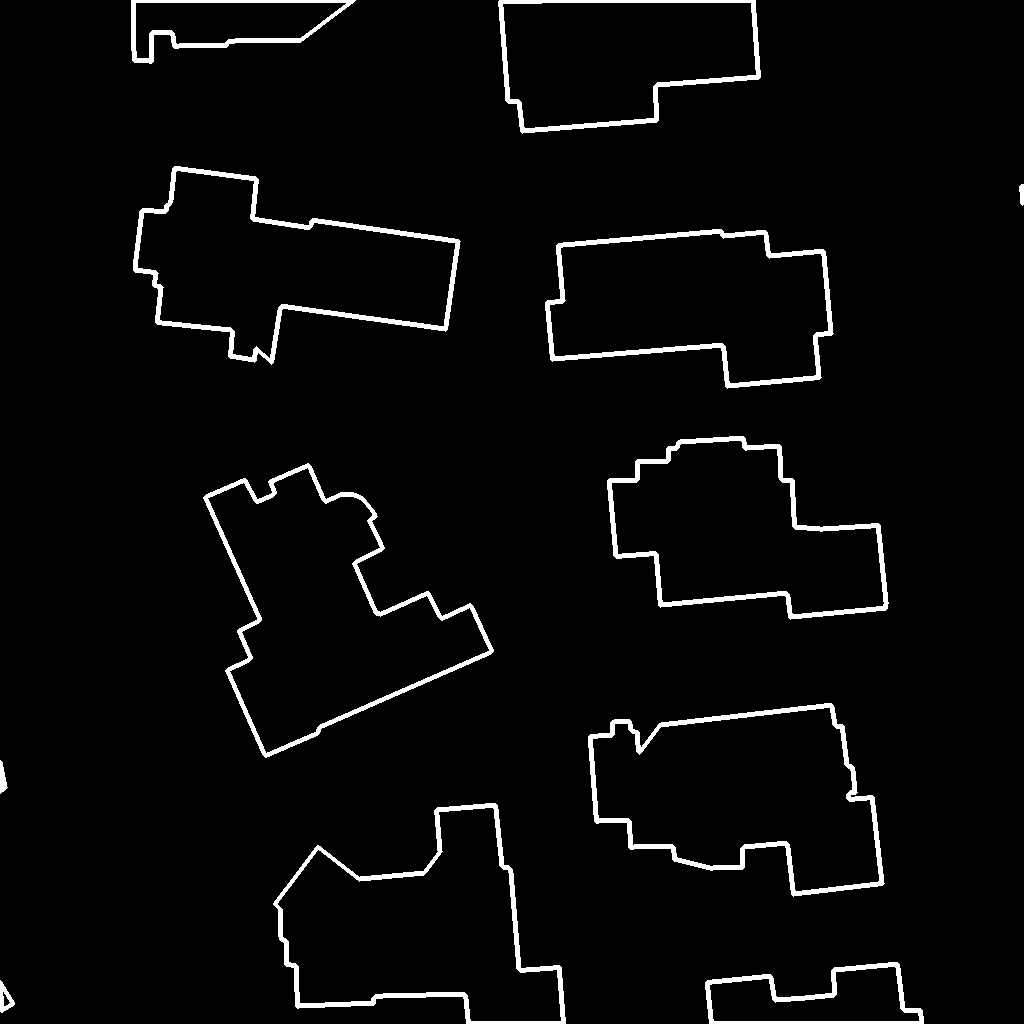building: (205, 465, 493, 757), (275, 805, 565, 1024), (135, 168, 459, 364), (590, 705, 883, 895), (609, 438, 887, 618), (547, 231, 832, 387), (500, 0, 760, 132), (133, 0, 355, 62), (707, 964, 923, 1024), (0, 982, 14, 1024), (0, 760, 6, 793), (1021, 186, 1024, 211)
